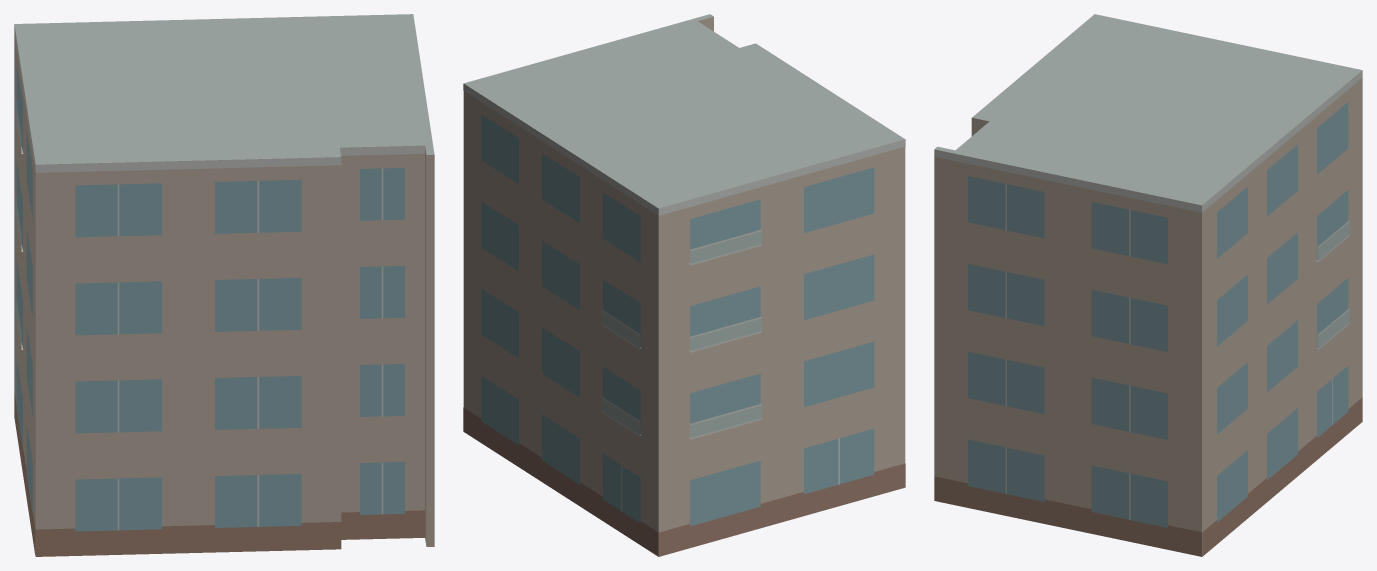
File: survey-upis-32525189.glb
3 views of the same model, side by side, from view 1: azimuth 30°, elevation 25°; view 2: azimuth 150°, elevation 25°; view 3: azimuth 270°, elevation 25° (orthographic). The views are drawn at different scales.
Parts seen in each view (by area): view 1: survey-upis-32525189.tmp; view 2: survey-upis-32525189.tmp; view 3: survey-upis-32525189.tmp.
Part boxes in pixels (x1,y1,x2,y2): survey-upis-32525189.tmp: [14, 14, 434, 556]; survey-upis-32525189.tmp: [463, 14, 905, 556]; survey-upis-32525189.tmp: [934, 14, 1362, 556].
Bounding box in the file's own units: 13.67 × 11.7 × 12.93.
